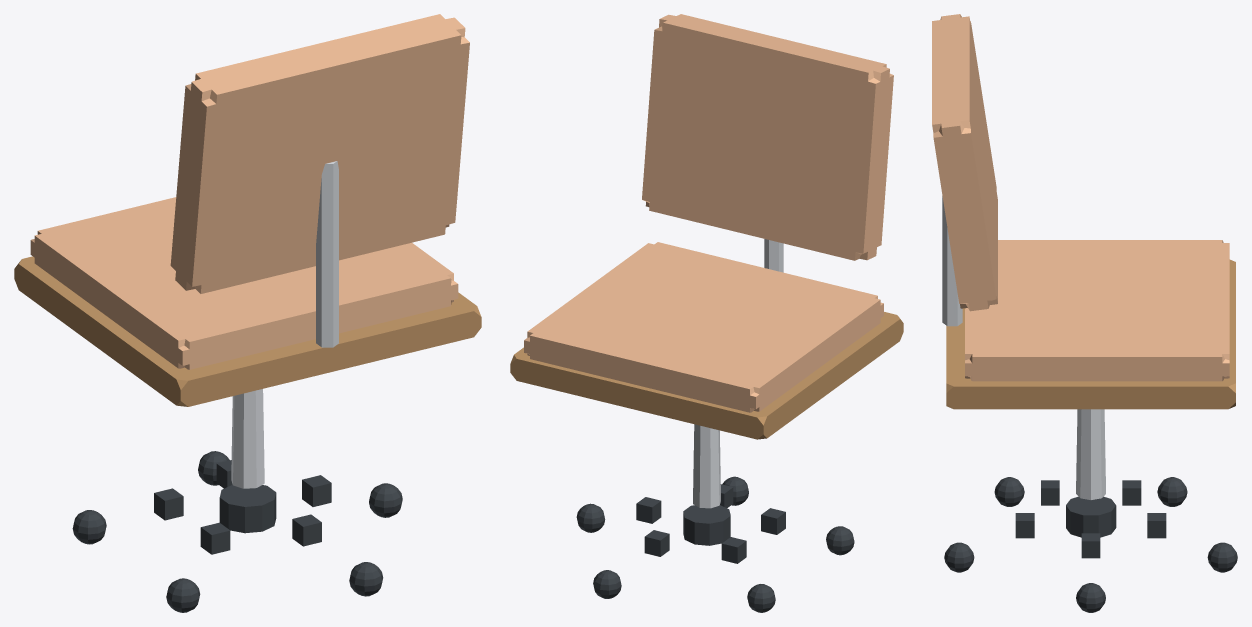
File: Furniture_DeskChair.glb
3 views of the same model, side by side, from view 1: azimuth 30°, elevation 25°; view 2: azimuth 150°, elevation 25°; view 3: azimuth 270°, elevation 25° (orthographic). The views are drawn at different scales.
Parts seen in each view (by area): view 1: Furniture_DeskChair; view 2: Furniture_DeskChair; view 3: Furniture_DeskChair.
Boxes of the visible parts, <box> form: Furniture_DeskChair: <box>14,14,481,612</box>; Furniture_DeskChair: <box>510,14,903,612</box>; Furniture_DeskChair: <box>932,14,1237,612</box>.
Size of the model in its own units: 0.4828 by 0.8498 by 0.4857.
